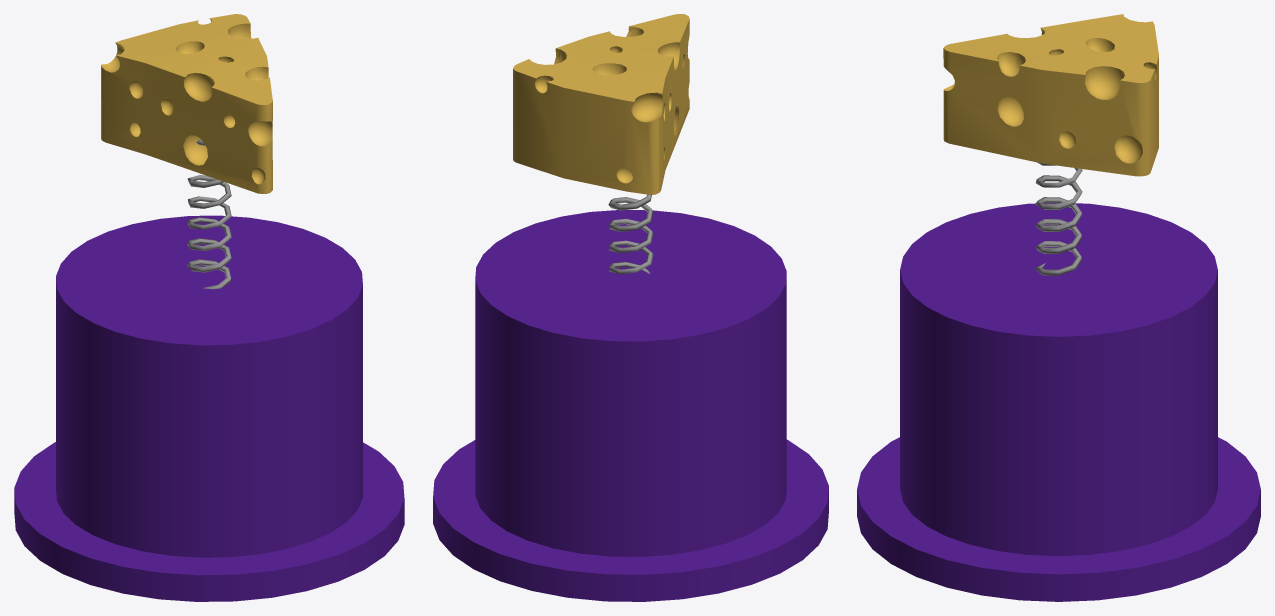
Rendered from cheese.glb.
The picture shows the model from 3 angles, left to right: view 1: azimuth 30°, elevation 25°; view 2: azimuth 150°, elevation 25°; view 3: azimuth 270°, elevation 25°; orthographic projection. The views are drawn at different scales.
Parts seen in each view (by area): view 1: Cylinder, cheese, Spiral; view 2: Cylinder, cheese, Spiral; view 3: Cylinder, cheese, Spiral.
Boxes of the visible parts, <box> form: Cylinder: <box>14,215,404,601</box>; cheese: <box>101,14,272,193</box>; Spiral: <box>187,139,231,289</box>; Cylinder: <box>433,210,828,601</box>; cheese: <box>513,14,689,194</box>; Spiral: <box>608,194,653,274</box>; Cylinder: <box>857,203,1260,601</box>; cheese: <box>943,14,1158,176</box>; Spiral: <box>1035,162,1082,275</box>.
Bounding box in the file's own units: 2.54 × 3.28 × 2.54.
